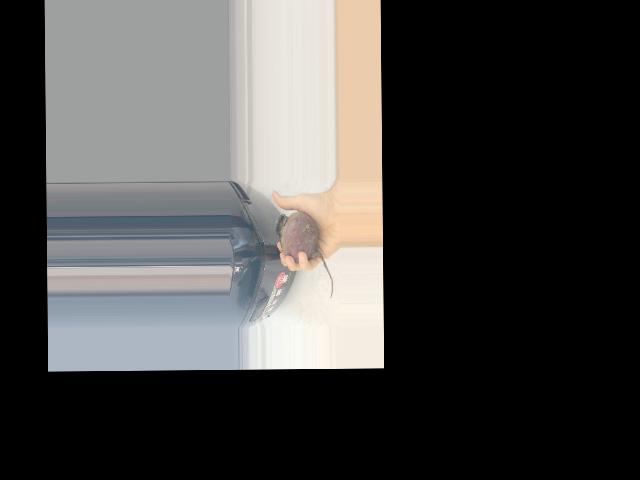beet: (275, 211, 333, 299)
